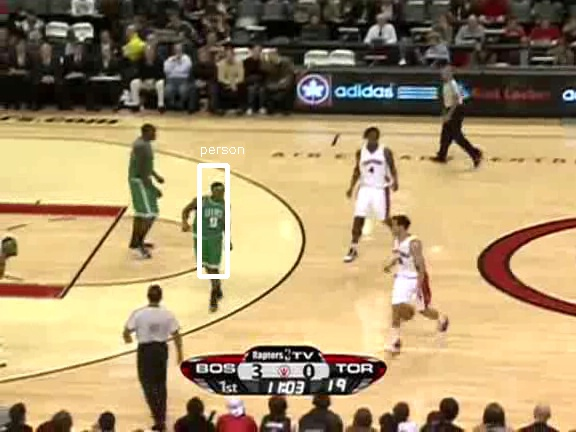person: (194, 196, 228, 277), (193, 196, 227, 277), (195, 196, 229, 277), (194, 195, 228, 276), (194, 197, 228, 278)
target_negative: (35, 211, 572, 341), (388, 74, 510, 245), (12, 323, 193, 358), (482, 77, 545, 151), (110, 209, 411, 221), (282, 190, 290, 309)
